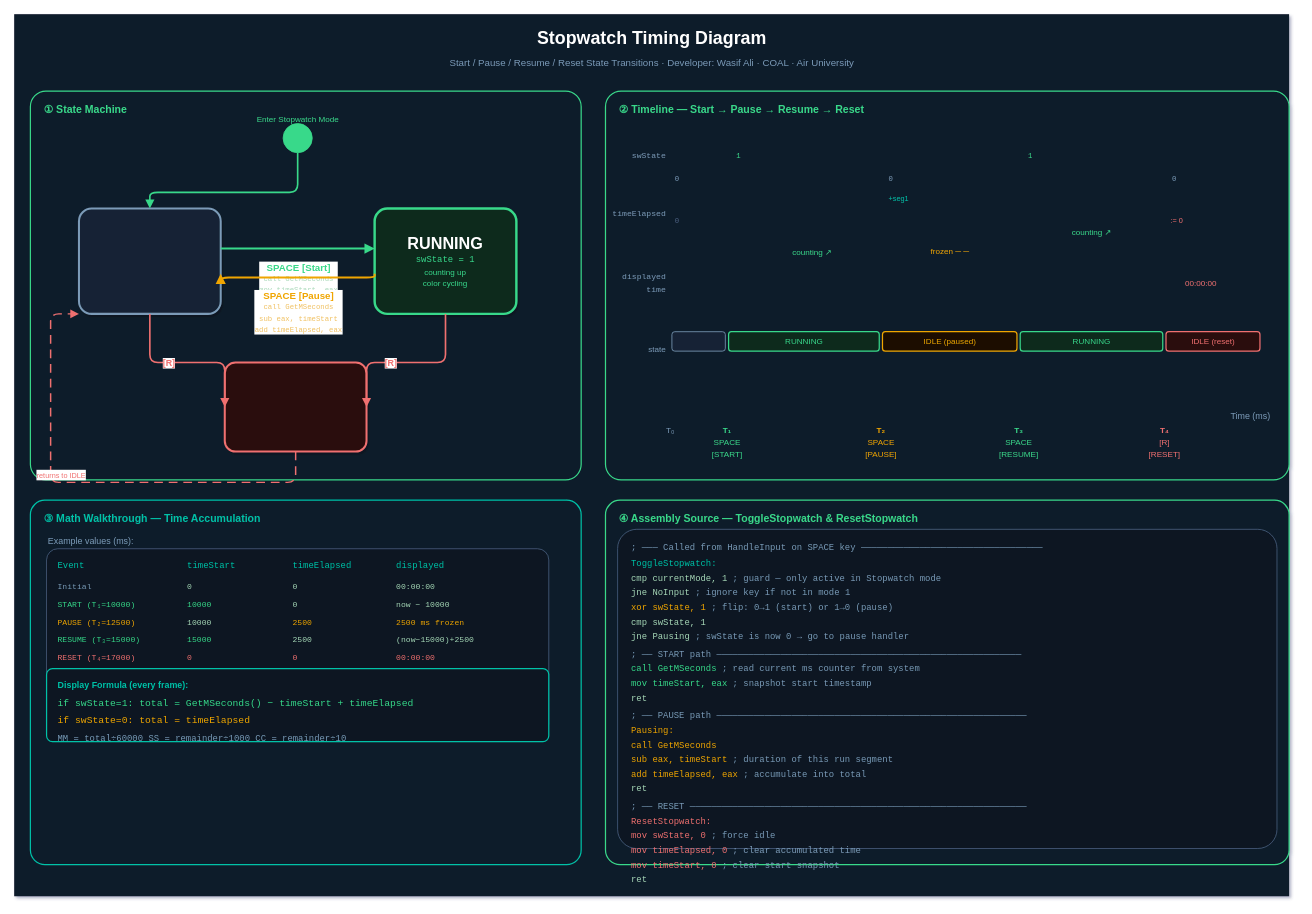
The diagram is 1312 pixels wide and 914 high, and some of its shapes have lost their labels. The shapes that lost their labels are listed below. From the top down, each one's centre as x and y in pixels, then its label:
At pixel 150 262: "IDLE swState = 0 display frozen color paused".
At pixel 698 341: "IDLE".
At pixel 296 408: "RESET swState=0 timeElapsed=0 timeStart=0".
